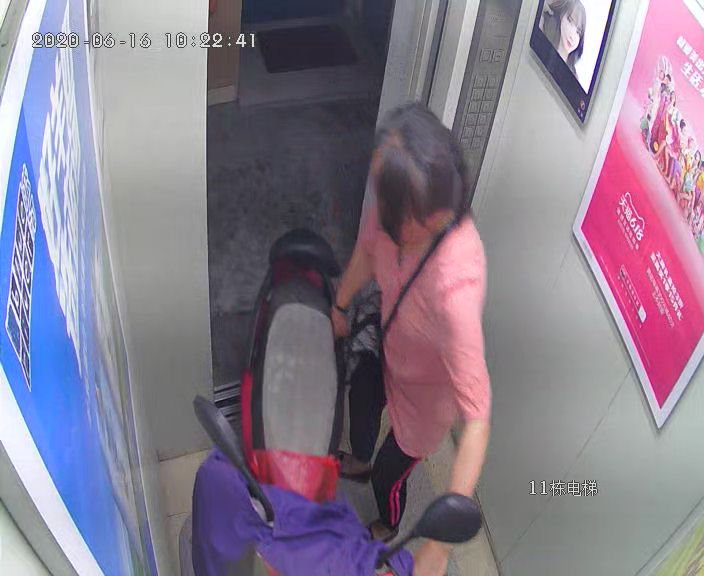Electric-bicycle: (192, 227, 483, 576)
